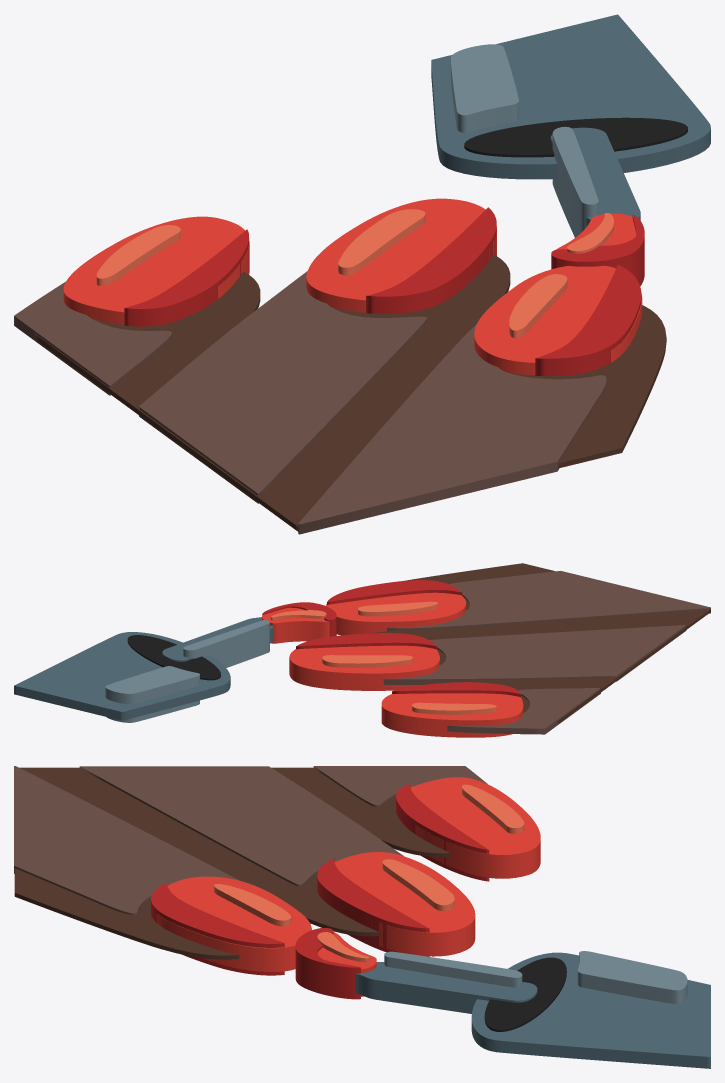
Rendered from emoji_u1f485_1f3ff.glb.
3 views of the same model, one above another, from view 1: azimuth 30°, elevation 25°; view 2: azimuth 150°, elevation 25°; view 3: azimuth 270°, elevation 25° (orthographic). The views are drawn at different scales.
Parts seen in each view (by area): view 1: emoji_u1f485_1f3ff; view 2: emoji_u1f485_1f3ff; view 3: emoji_u1f485_1f3ff.
Boxes of the visible parts, x1=… form: emoji_u1f485_1f3ff: x1=14, y1=14, x2=710, y2=534; emoji_u1f485_1f3ff: x1=14, y1=563, x2=710, y2=737; emoji_u1f485_1f3ff: x1=14, y1=766, x2=710, y2=1068.
Size of the model in its own units: 0.0319 by 0.002 by 0.032.
